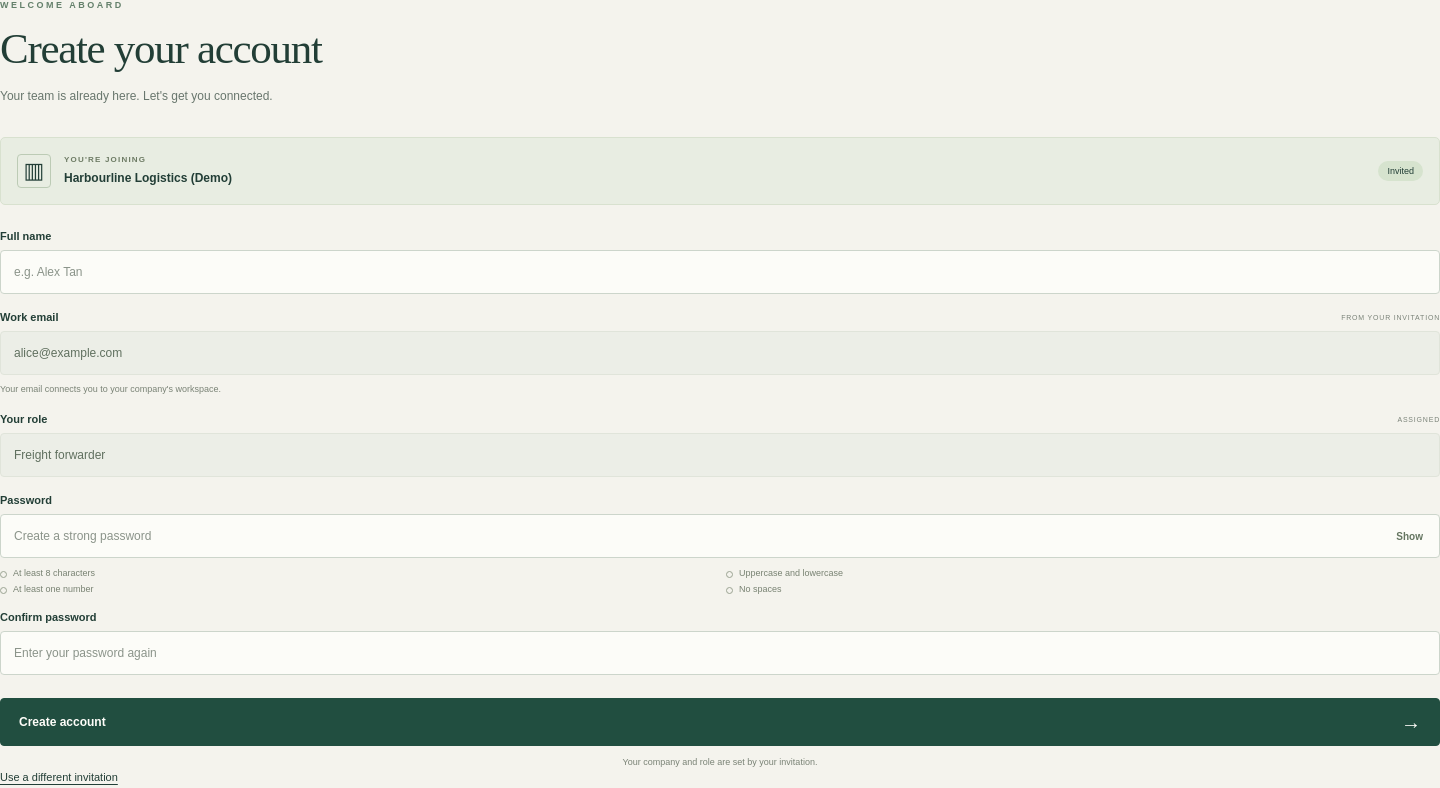
signup form › shows backend field errors
Type "Alice" into the field labelled "Full name" at (720, 272), box x1=0 y1=250 x2=1439 y2=294
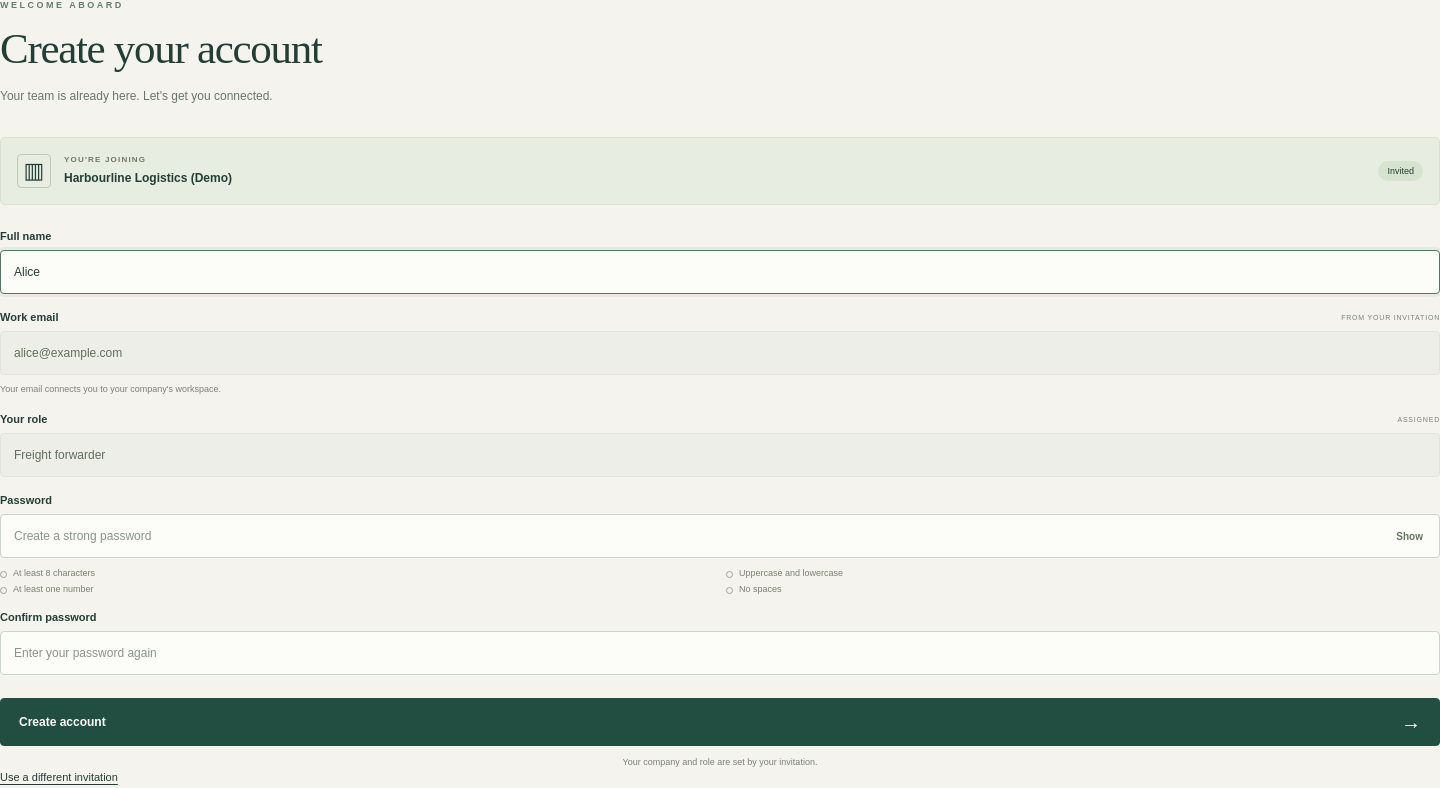
Type "Example123" into the password field labelled "Password" at (720, 536), box x1=0 y1=514 x2=1439 y2=558
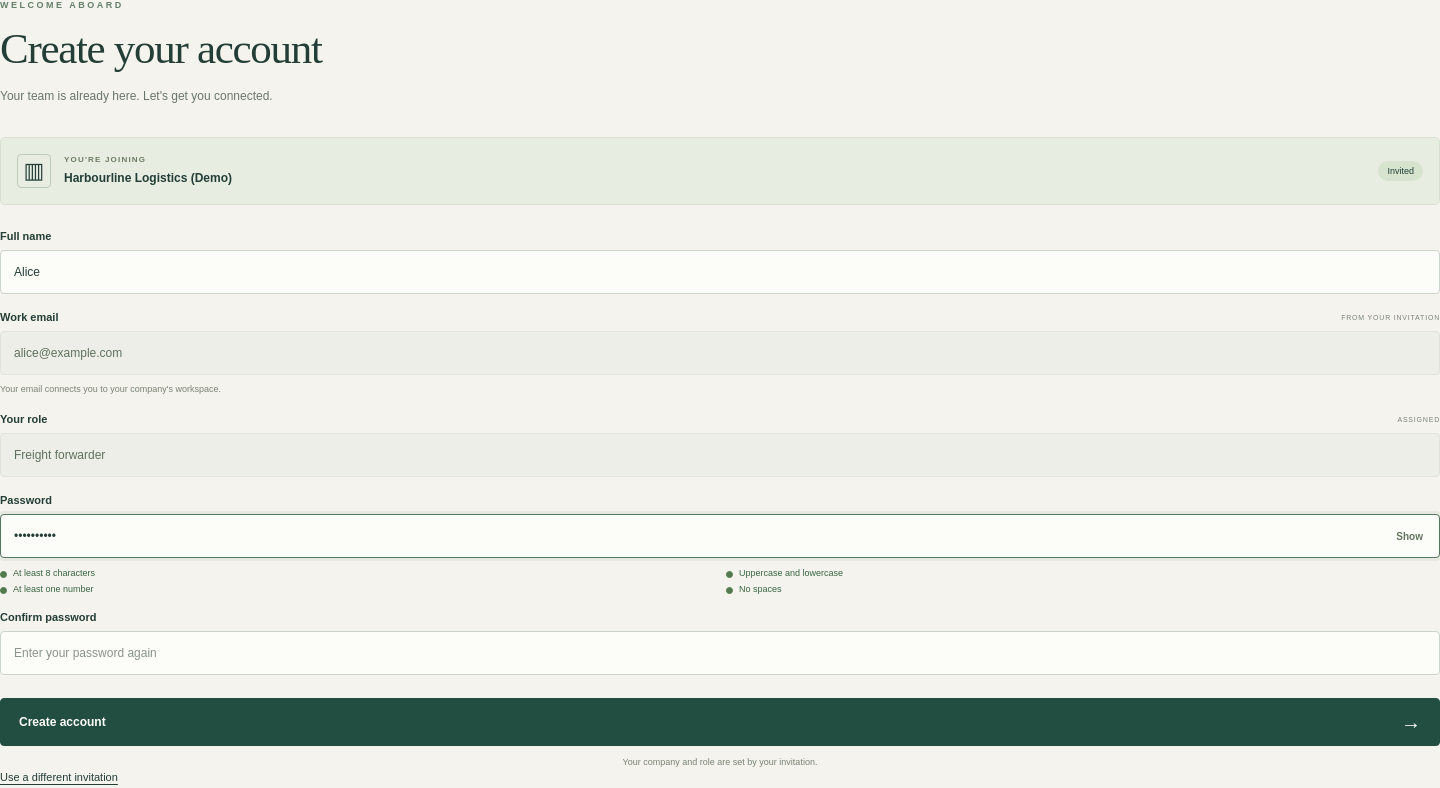
Type "Example123" into the password field labelled "Confirm password" at (720, 653), box x1=0 y1=631 x2=1439 y2=675
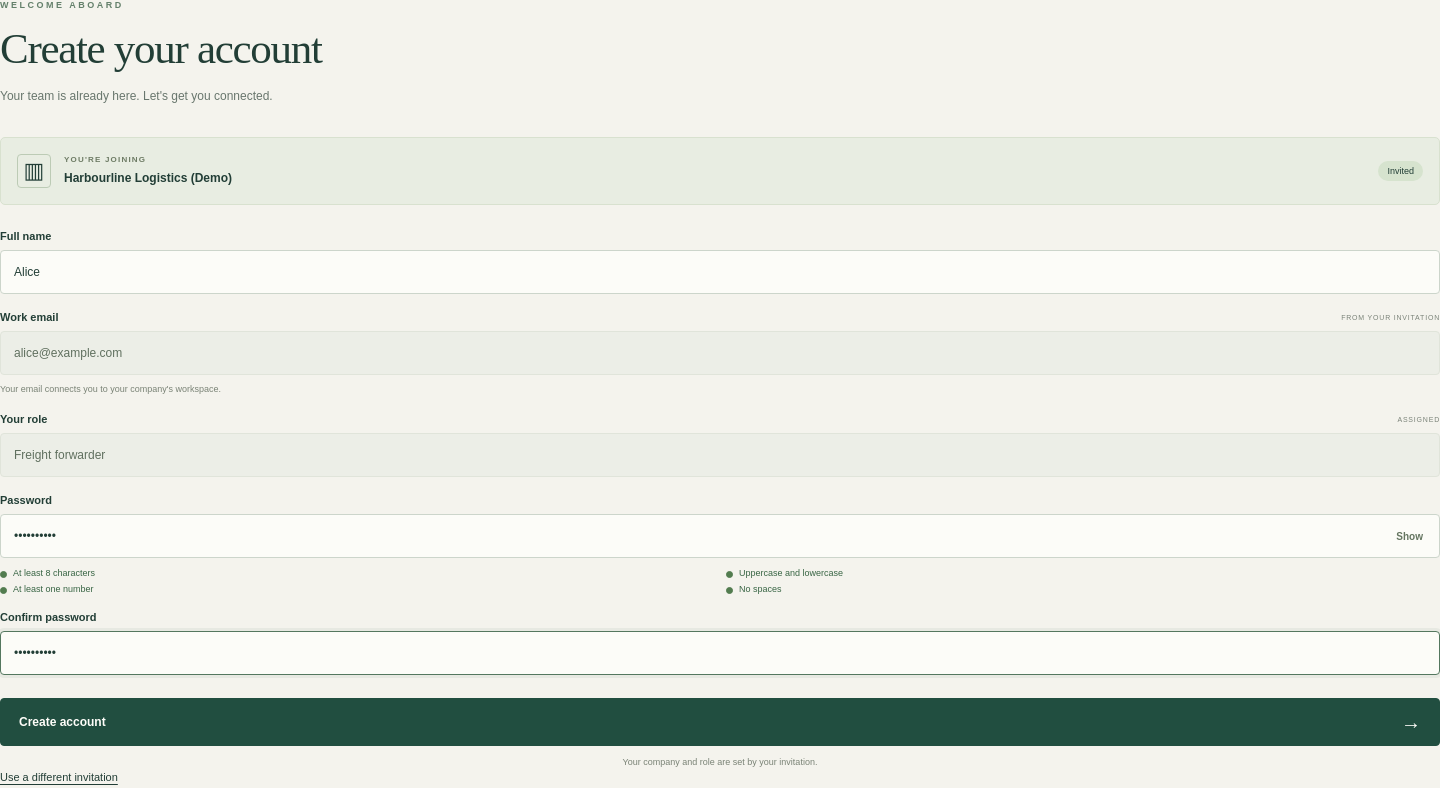
Click the button "Create account →" at (62, 722), box x1=0 y1=698 x2=1439 y2=746
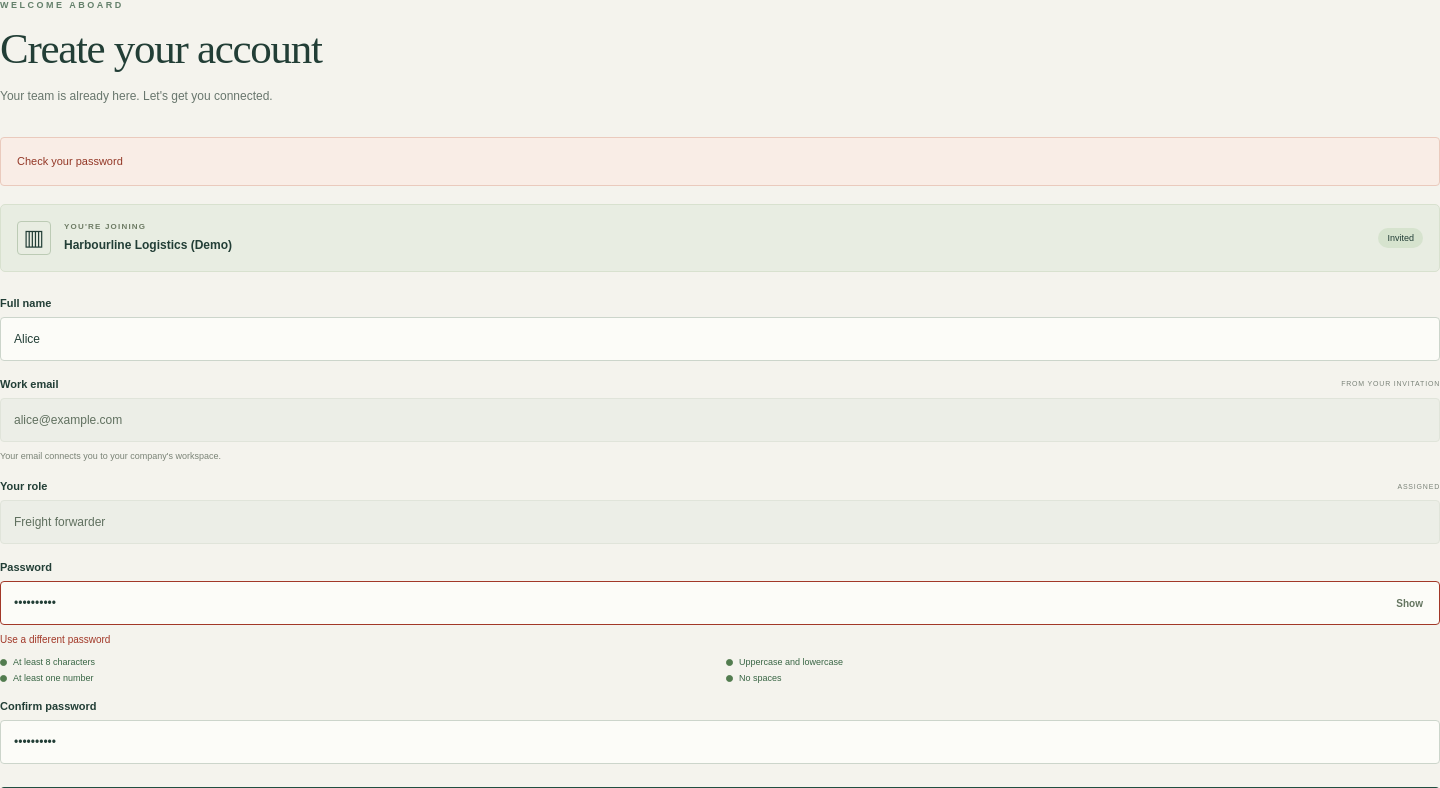
Check: the text "Use a different password" is shown, box x1=0 y1=634 x2=110 y2=645
